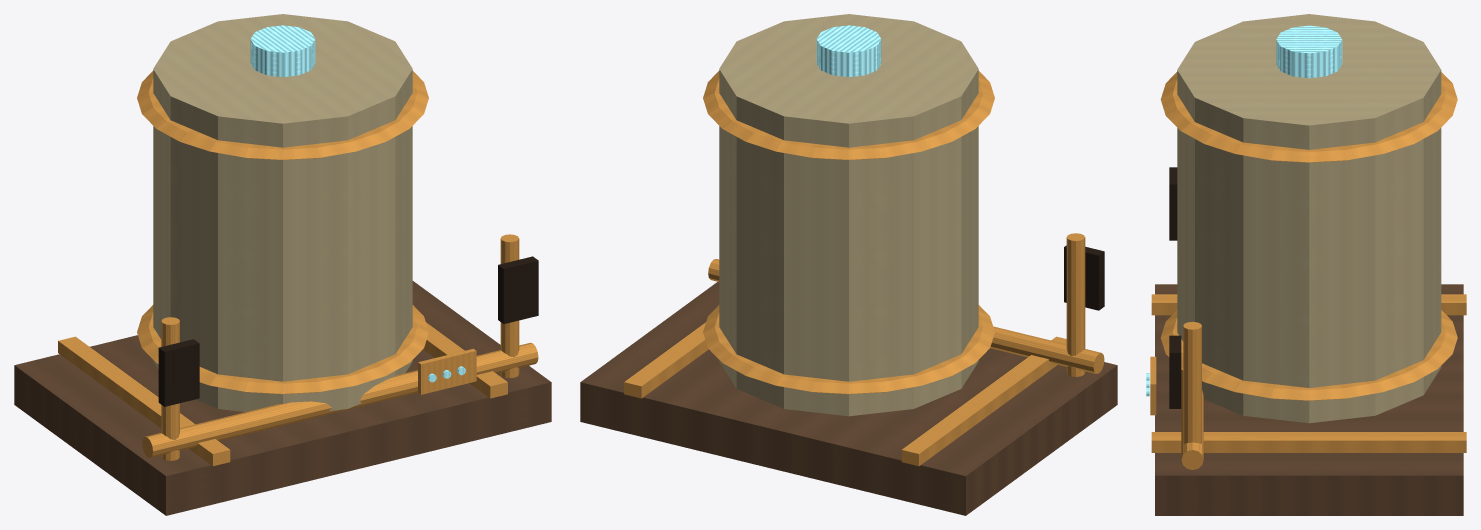
Rendered from atlas100-s015-a02.glb.
The picture shows the model from 3 angles, left to right: view 1: azimuth 30°, elevation 25°; view 2: azimuth 150°, elevation 25°; view 3: azimuth 270°, elevation 25°; orthographic projection.
Parts seen in each view (by area): view 1: atlas100-s015-a02:part-003, atlas100-s015-a02:part-000, atlas100-s015-a02:part-011, atlas100-s015-a02:part-005, atlas100-s015-a02:part-004, atlas100-s015-a02:part-001, atlas100-s015-a02:part-006, atlas100-s015-a02:part-008, atlas100-s015-a02:part-010, atlas100-s015-a02:part-012, atlas100-s015-a02:part-002, atlas100-s015-a02:part-009 (+1 smaller); view 2: atlas100-s015-a02:part-003, atlas100-s015-a02:part-000, atlas100-s015-a02:part-005, atlas100-s015-a02:part-004, atlas100-s015-a02:part-001, atlas100-s015-a02:part-006, atlas100-s015-a02:part-011, atlas100-s015-a02:part-007, atlas100-s015-a02:part-002, atlas100-s015-a02:part-008; view 3: atlas100-s015-a02:part-003, atlas100-s015-a02:part-000, atlas100-s015-a02:part-002, atlas100-s015-a02:part-005, atlas100-s015-a02:part-004, atlas100-s015-a02:part-006, atlas100-s015-a02:part-009, atlas100-s015-a02:part-001, atlas100-s015-a02:part-010, atlas100-s015-a02:part-011, atlas100-s015-a02:part-008, atlas100-s015-a02:part-012.
Part boxes in pixels (x1,y1,x2,y2): atlas100-s015-a02:part-003: [153, 14, 412, 411]; atlas100-s015-a02:part-000: [14, 281, 551, 515]; atlas100-s015-a02:part-011: [142, 342, 538, 457]; atlas100-s015-a02:part-005: [137, 71, 428, 160]; atlas100-s015-a02:part-004: [137, 305, 428, 394]; atlas100-s015-a02:part-001: [58, 336, 230, 466]; atlas100-s015-a02:part-006: [250, 25, 315, 77]; atlas100-s015-a02:part-008: [158, 339, 199, 406]; atlas100-s015-a02:part-010: [498, 256, 538, 323]; atlas100-s015-a02:part-012: [418, 348, 476, 394]; atlas100-s015-a02:part-002: [423, 322, 507, 398]; atlas100-s015-a02:part-009: [500, 234, 519, 377]; atlas100-s015-a02:part-003: [719, 14, 978, 416]; atlas100-s015-a02:part-000: [580, 282, 1117, 515]; atlas100-s015-a02:part-005: [703, 71, 994, 160]; atlas100-s015-a02:part-004: [703, 305, 994, 394]; atlas100-s015-a02:part-001: [901, 336, 1066, 466]; atlas100-s015-a02:part-006: [816, 25, 881, 77]; atlas100-s015-a02:part-011: [708, 259, 1104, 373]; atlas100-s015-a02:part-007: [1066, 233, 1085, 376]; atlas100-s015-a02:part-002: [624, 322, 708, 398]; atlas100-s015-a02:part-008: [1064, 245, 1104, 310]; atlas100-s015-a02:part-003: [1177, 14, 1441, 423]; atlas100-s015-a02:part-000: [1155, 284, 1463, 515]; atlas100-s015-a02:part-002: [1151, 432, 1466, 452]; atlas100-s015-a02:part-005: [1160, 72, 1457, 162]; atlas100-s015-a02:part-004: [1160, 310, 1457, 400]; atlas100-s015-a02:part-006: [1276, 25, 1342, 78]; atlas100-s015-a02:part-009: [1183, 321, 1201, 443]; atlas100-s015-a02:part-001: [1151, 294, 1466, 315]; atlas100-s015-a02:part-010: [1169, 335, 1181, 408]; atlas100-s015-a02:part-011: [1181, 370, 1203, 469]; atlas100-s015-a02:part-008: [1169, 167, 1177, 240]; atlas100-s015-a02:part-012: [1150, 356, 1156, 415].
Size of the model in its own units: 2.64 by 2.45 by 1.87.
5 materials, 5 textured.
